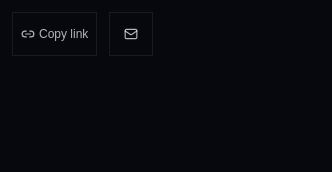
Test: page share controls › copies the canonical page URL and announces success
Click the button "Copy link": (55, 34) [12,12,97,56]
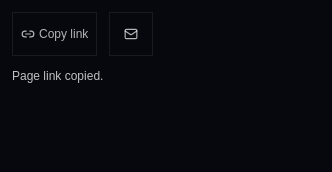
Expected: the text "Page link copied." is shown, [12,69,103,83]
